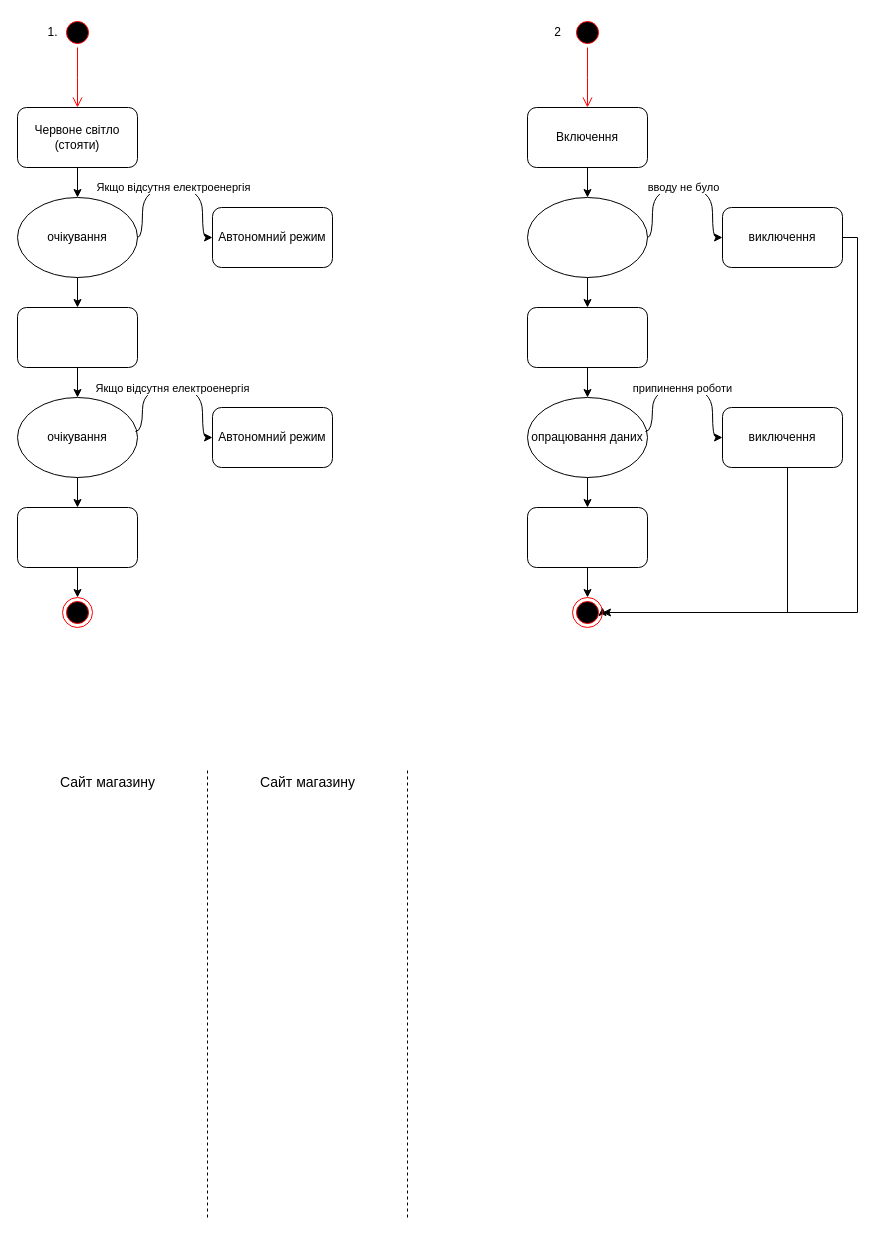
This 883x1236 diagram has some shape labels left out. The shapes that lost their labels are listed below. From the top down, each one's box as (x1, y1, x2, y2) in pixels, then its label:
(526, 196, 648, 278): очікування вводу
(16, 306, 138, 368): Червоне світло (приготуватись)
(526, 306, 648, 368): отримання даних вводу
(16, 506, 138, 568): Зелене світло (рушати)
(526, 506, 648, 568): повернення результату
